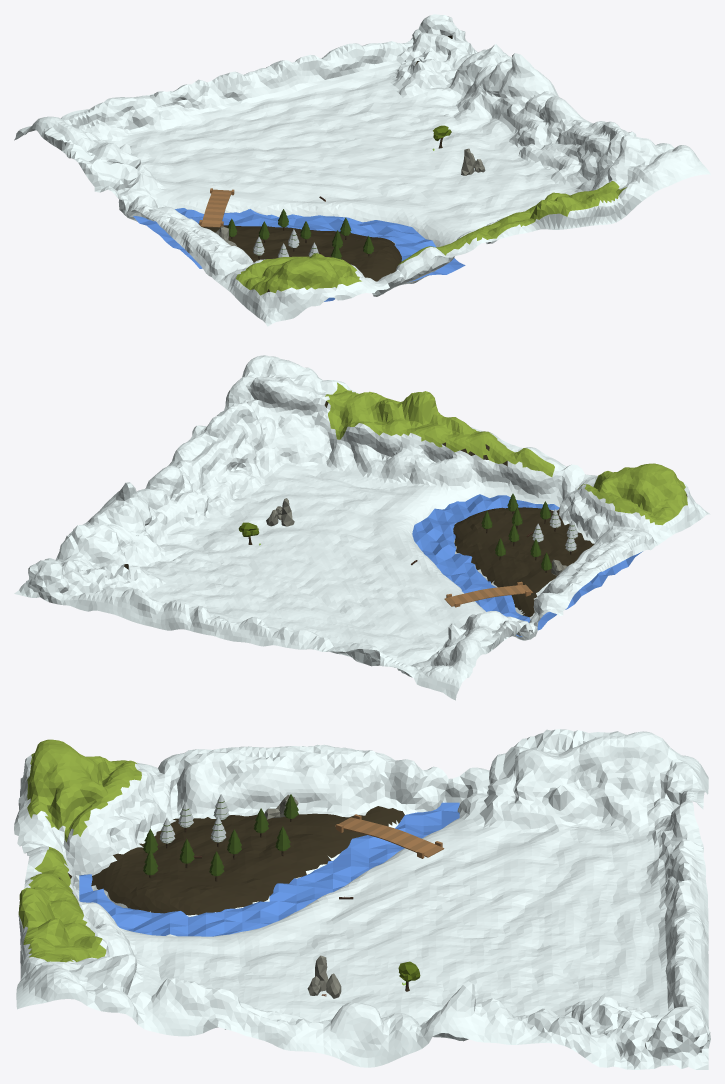
The model's file is Terrain.fbx.
The picture shows the model from 3 angles, top to bottom: view 1: azimuth 30°, elevation 25°; view 2: azimuth 150°, elevation 25°; view 3: azimuth 270°, elevation 25°; orthographic projection. The views are drawn at different scales.
Visible parts, largest first — view 1: Terrain, River, Bridge; view 2: Terrain, River, Bridge; view 3: Terrain, River, Bridge.
Part boxes in pixels (x1,y1,x2,y2): Terrain: (14, 14, 710, 326); River: (133, 208, 465, 301); Bridge: (199, 188, 234, 227); Terrain: (14, 355, 710, 700); River: (412, 494, 642, 636); Bridge: (444, 581, 533, 607); Terrain: (14, 729, 710, 1069); River: (79, 802, 459, 936); Bridge: (335, 814, 444, 858).
Bounding box in the file's own units: 2218 × 425 × 2209.
